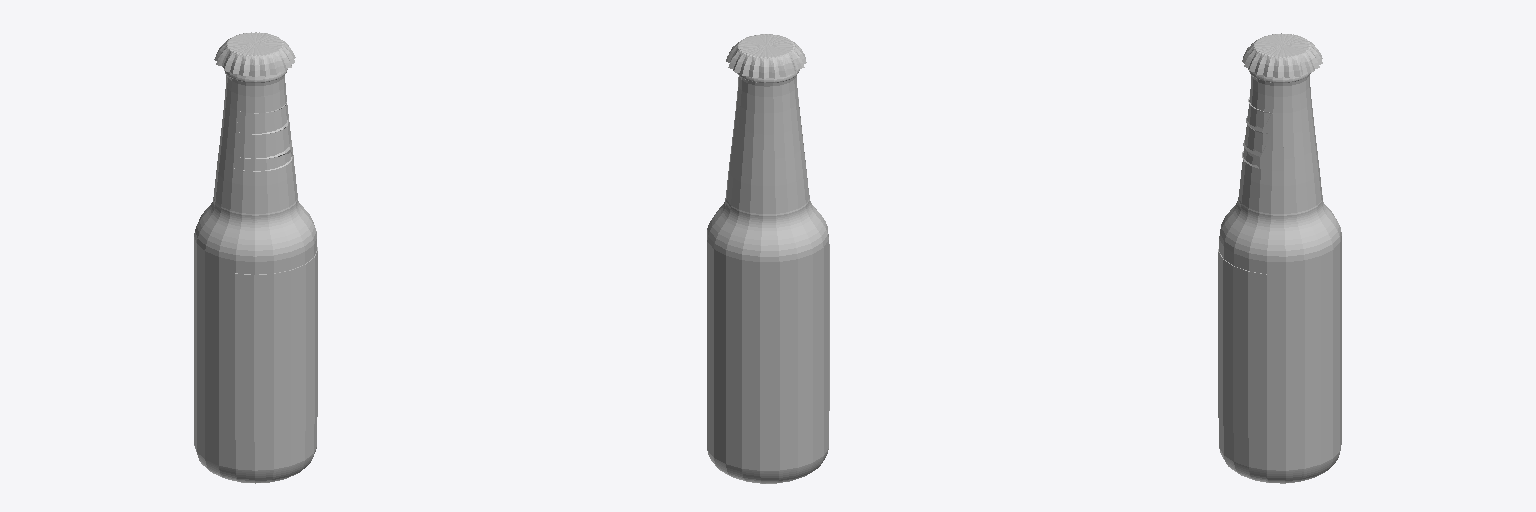
The model's file is uploads_files_2263760_Heineken+Bottle+OBJ.obj.
3 views of the same model, side by side, from view 1: azimuth 30°, elevation 25°; view 2: azimuth 150°, elevation 25°; view 3: azimuth 270°, elevation 25° (orthographic).
Parts seen in each view (by area): view 1: Line08, Label03, Cylinder07; view 2: Line08, Cylinder07; view 3: Line08, Label03, Cylinder07, Label_Neck03.
Boxes of the visible parts, x1,y1,x2,y2 form: Line08: [194, 65, 316, 483]; Label03: [235, 247, 317, 441]; Cylinder07: [214, 32, 295, 76]; Line08: [707, 69, 828, 483]; Cylinder07: [726, 34, 806, 78]; Line08: [1219, 68, 1341, 483]; Label03: [1218, 249, 1266, 440]; Cylinder07: [1242, 33, 1322, 77]; Label_Neck03: [1242, 97, 1272, 170].
Size of the model in its own units: 776 by 2943 by 782.